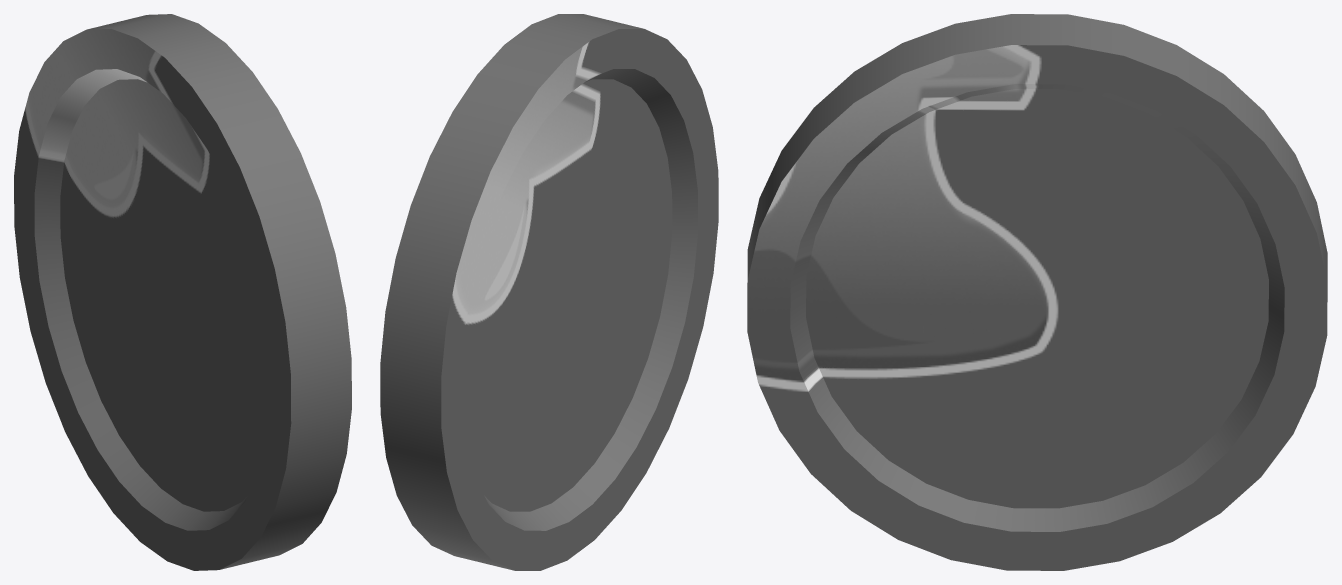
File: Me_Inter_Blessings_V04.fbx
3 renders of one model, left to right at view 1: azimuth 30°, elevation 25°; view 2: azimuth 150°, elevation 25°; view 3: azimuth 270°, elevation 25°, orthographic. The views are drawn at different scales.
Parts seen in each view (by area): view 1: Cylinder.002; view 2: Cylinder.002; view 3: Cylinder.002.
Part boxes in pixels (bbox=[...]): Cylinder.002: bbox=[14, 14, 351, 570]; Cylinder.002: bbox=[380, 14, 718, 570]; Cylinder.002: bbox=[747, 14, 1327, 570].
Bounding box in the file's own units: 151 × 151 × 19.07.
